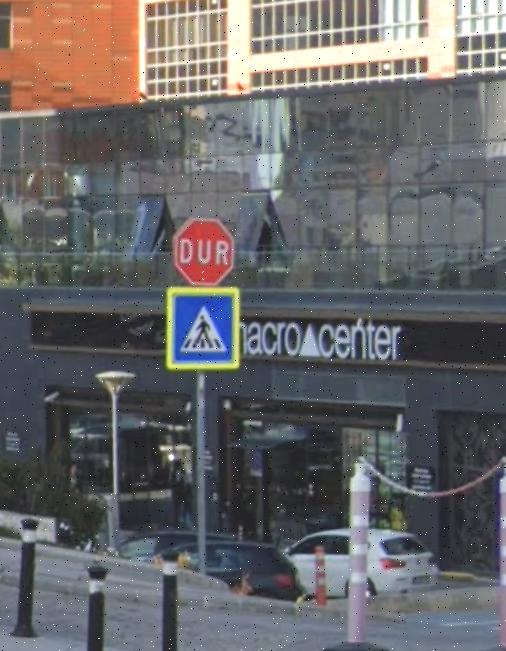stop: (176, 217, 235, 285)
